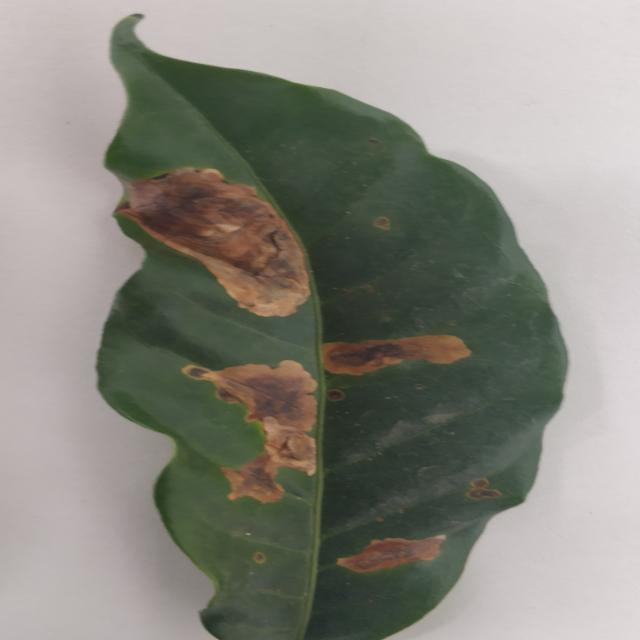Plaga-Minador: (94, 13, 570, 640)
